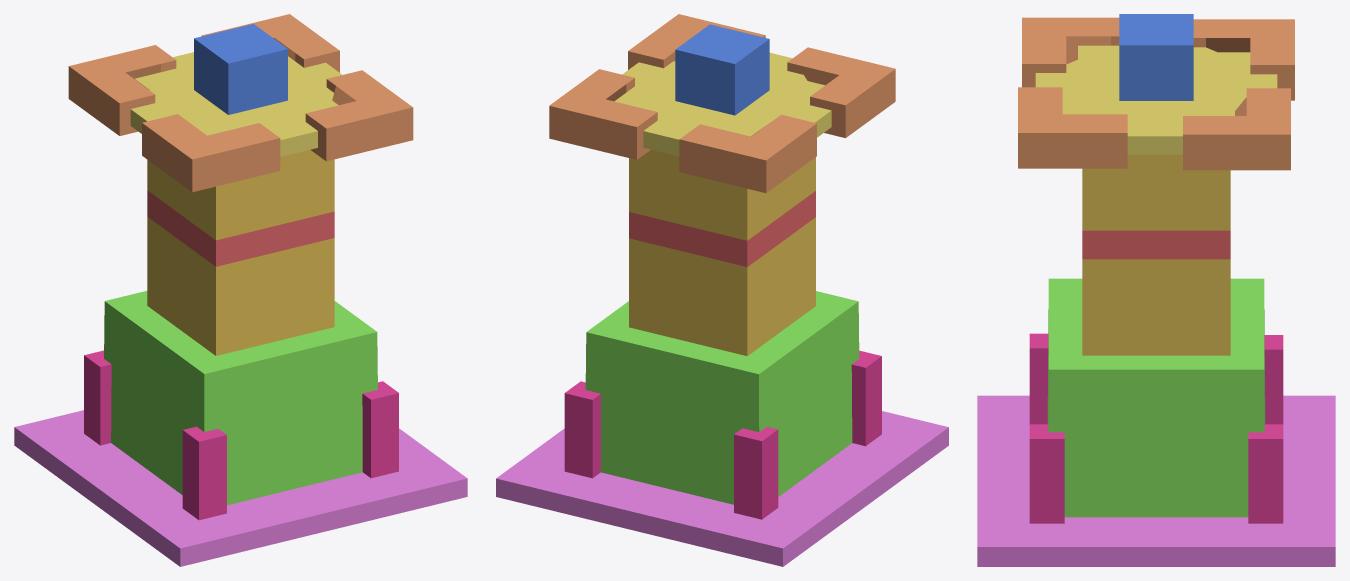
The model's file is turret_Lv1.fbx.
The picture shows the model from 3 angles, left to right: view 1: azimuth 30°, elevation 25°; view 2: azimuth 150°, elevation 25°; view 3: azimuth 270°, elevation 25°; orthographic projection. The views are drawn at different scales.
Parts seen in each view (by area): view 1: Cube.004; view 2: Cube.004; view 3: Cube.004.
Boxes of the visible parts, left/top/right/bottom form: Cube.004: left=14, top=14, right=467, bottom=566; Cube.004: left=496, top=14, right=948, bottom=566; Cube.004: left=977, top=14, right=1335, bottom=566.
Size of the model in its own units: 86.51 by 123 by 86.51.
